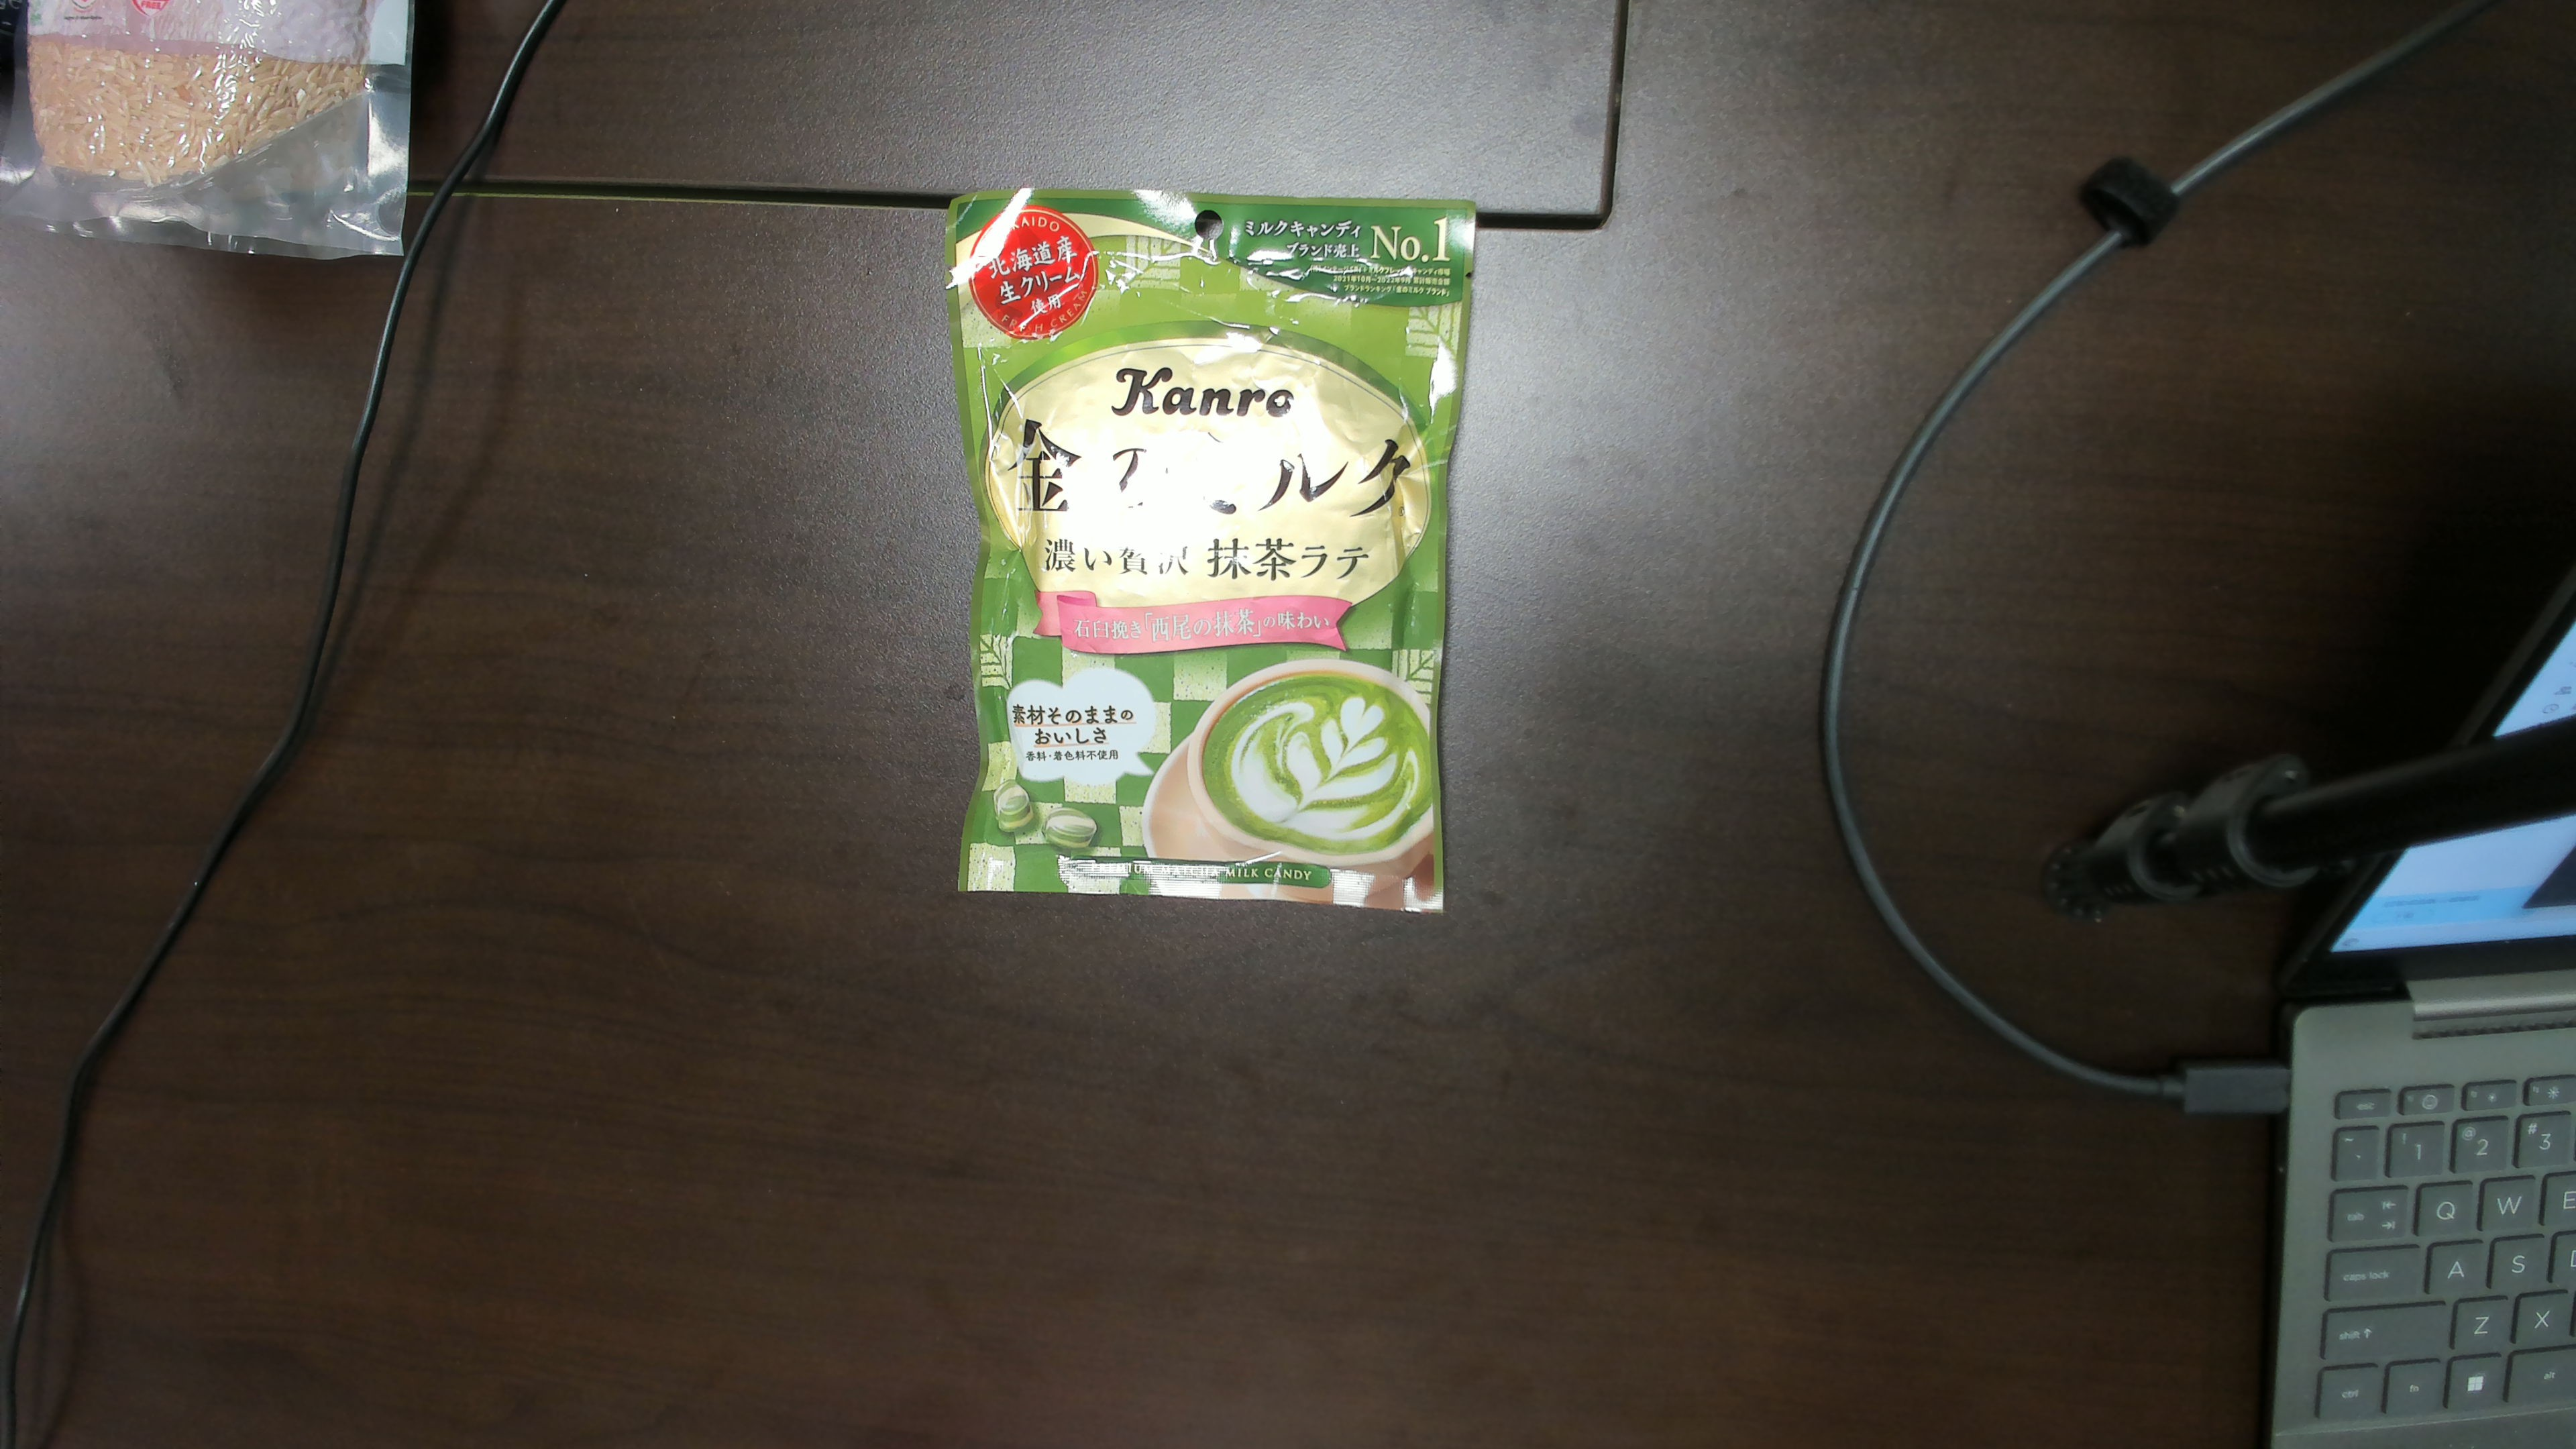SweetsChocolatesOthers_100-199g_NonHalal_NonHealthy: (968, 202, 1437, 899)
